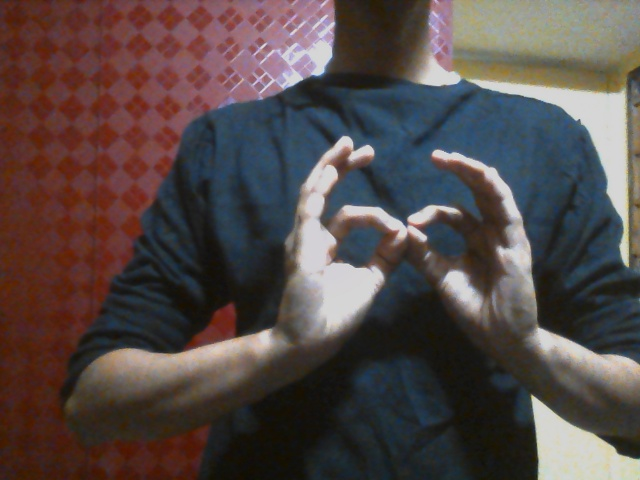B: (274, 132, 541, 395)
